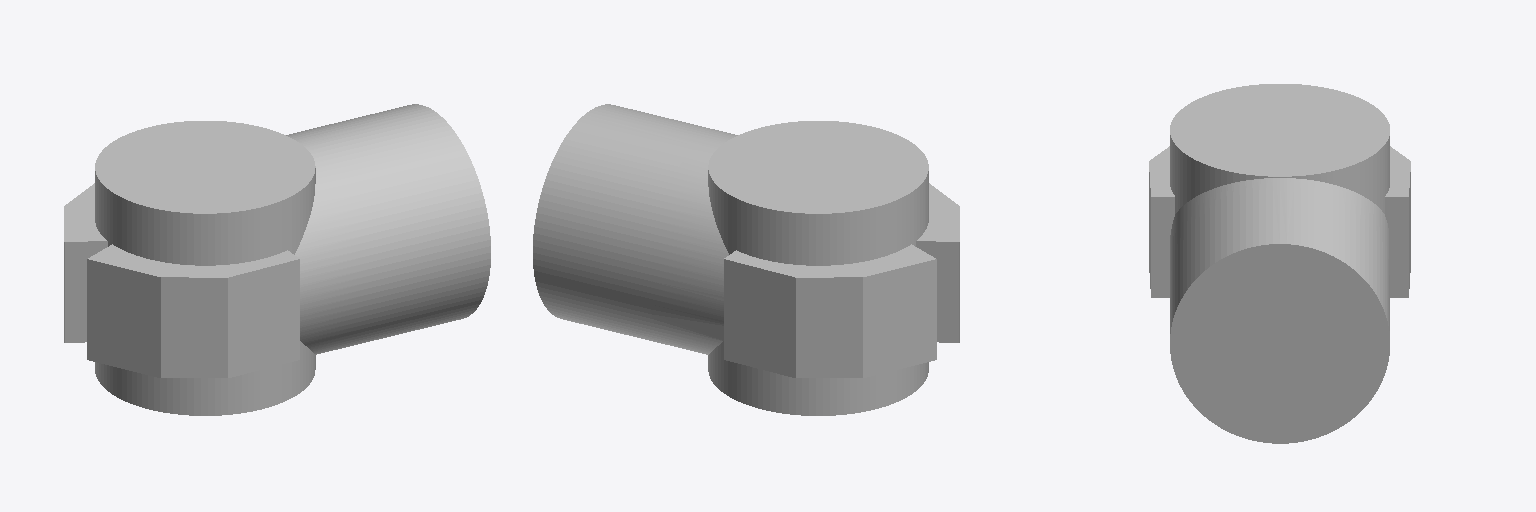
3 renders of one model, left to right at view 1: azimuth 30°, elevation 25°; view 2: azimuth 150°, elevation 25°; view 3: azimuth 270°, elevation 25°, orthographic.
Parts seen in each view (by area): view 1: link_61; view 2: link_61; view 3: link_61.
Boxes of the visible parts, <box> form: link_61: <box>64,104,490,415</box>; link_61: <box>533,104,959,415</box>; link_61: <box>1149,84,1410,443</box>.
Size of the model in its own units: 79.25 by 42.5 by 49.97.